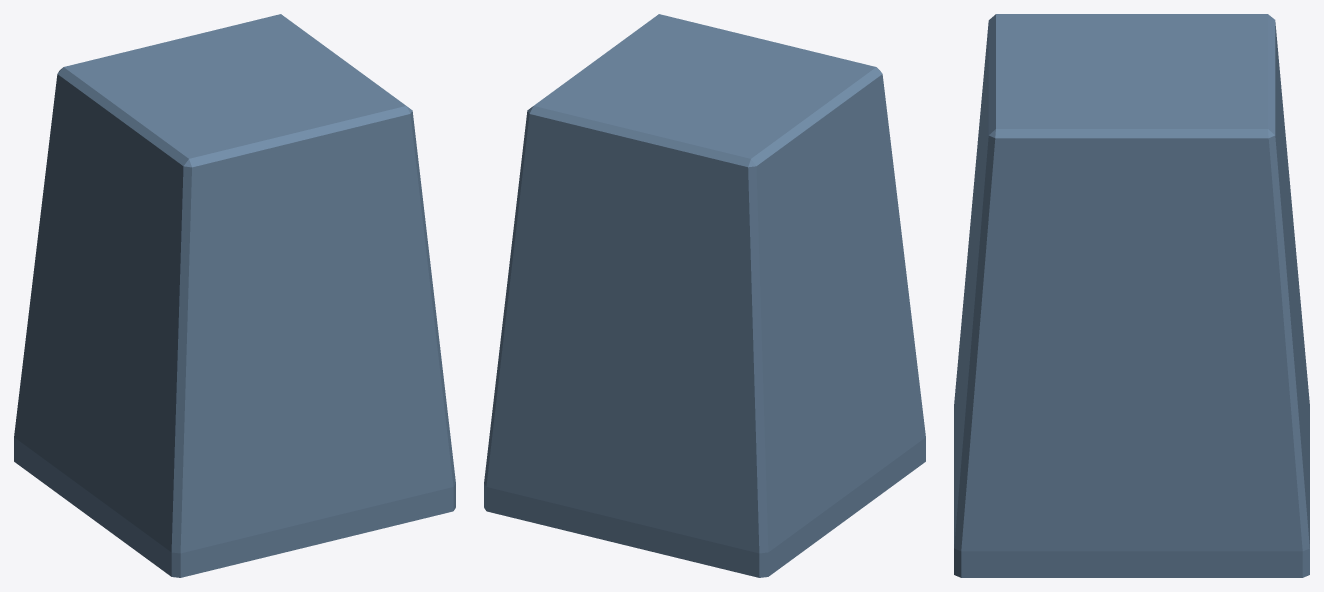
File: Mixer_Liquid_Inside.fbx
The picture shows the model from 3 angles, left to right: view 1: azimuth 30°, elevation 25°; view 2: azimuth 150°, elevation 25°; view 3: azimuth 270°, elevation 25°; orthographic projection. The views are drawn at different scales.
Parts seen in each view (by area): view 1: Mixer_Liquid_Inside; view 2: Mixer_Liquid_Inside; view 3: Mixer_Liquid_Inside.
Boxes of the visible parts, x1,y1,x2,y2 form: Mixer_Liquid_Inside: [14, 14, 455, 577]; Mixer_Liquid_Inside: [484, 14, 925, 577]; Mixer_Liquid_Inside: [954, 14, 1309, 577].
Size of the model in its own units: 1.42 by 1.9 by 1.42.
